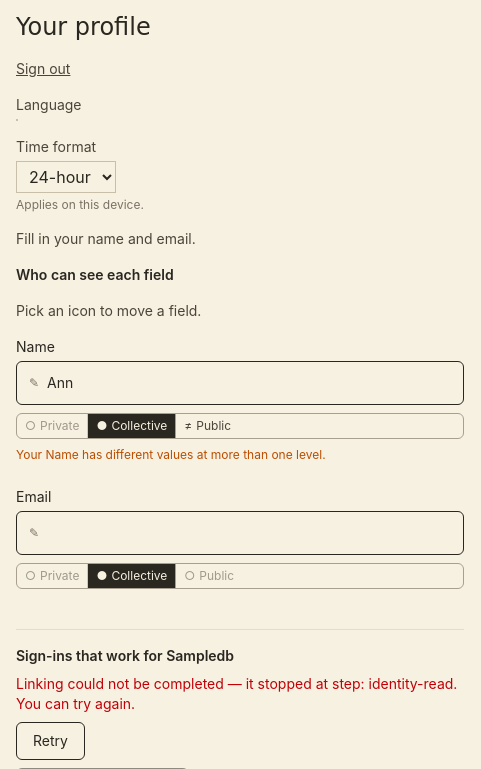
Test: /profile v2 — #131 conflict resolution (browse-then-confirm) › AC3: second tap on the SAME tier resolves — syncs every OTHER holder to the previewed value
Expected: the element with test id "profile-field-name" is shown, [16,337,464,463]
Click the button with test id "profile-vis-name-public": (208, 426) [176,414,239,438]
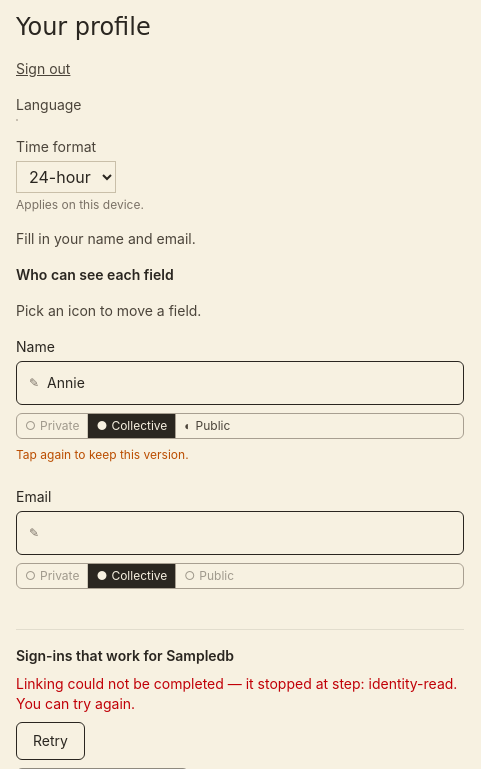
Now the text "◐" is shown, box [184,418,192,434]
Click the button with test id "profile-vis-name-public": (207, 426) [176,414,238,438]
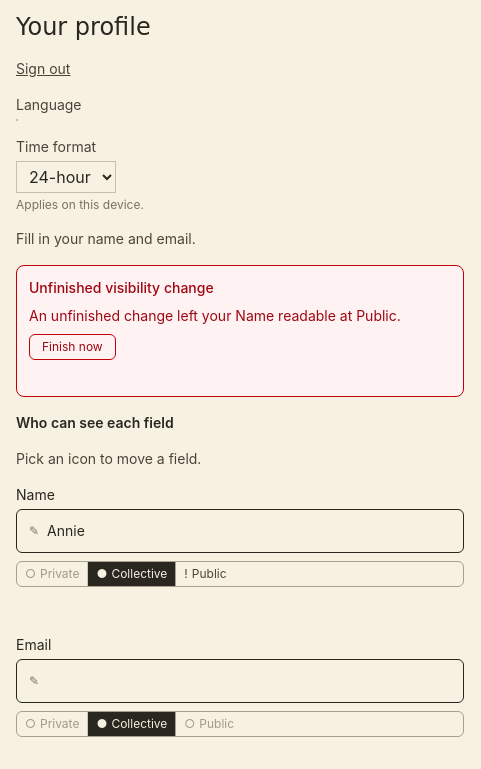
Now the message with test id "profile-visibility-repair-name" is shown, box [16,265,464,397]
